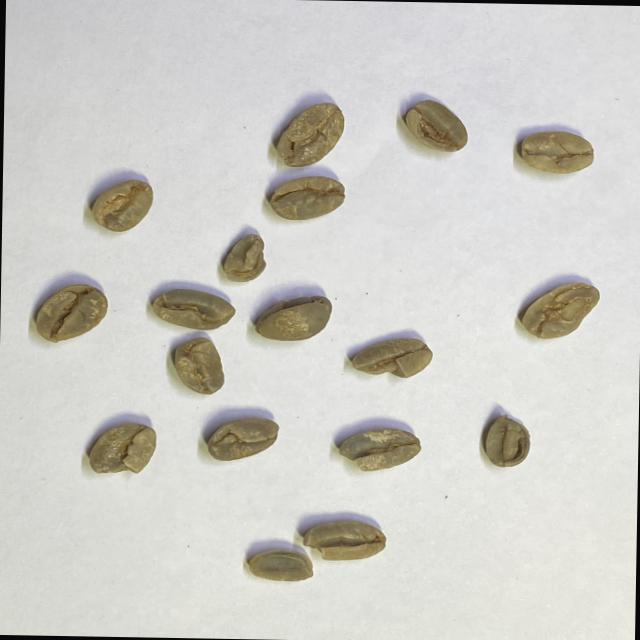bad: (520, 278, 601, 342), (274, 100, 346, 170), (32, 280, 110, 344), (336, 425, 422, 474), (253, 292, 333, 343), (266, 172, 347, 222), (300, 516, 386, 563), (87, 419, 157, 476), (150, 287, 236, 332), (350, 334, 434, 380), (402, 98, 470, 154), (90, 176, 155, 234), (205, 415, 280, 463), (518, 128, 596, 174), (170, 335, 226, 396), (483, 413, 532, 470), (247, 546, 314, 584), (221, 232, 268, 284)
